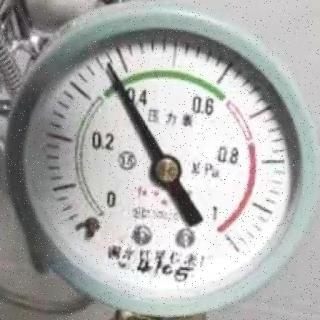gauge: (4, 0, 320, 320), (198, 203, 248, 261), (66, 209, 102, 249), (148, 153, 182, 187), (100, 57, 116, 75)
